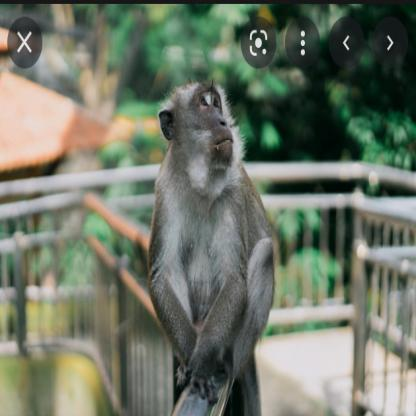monkey: (144, 76, 274, 400)
